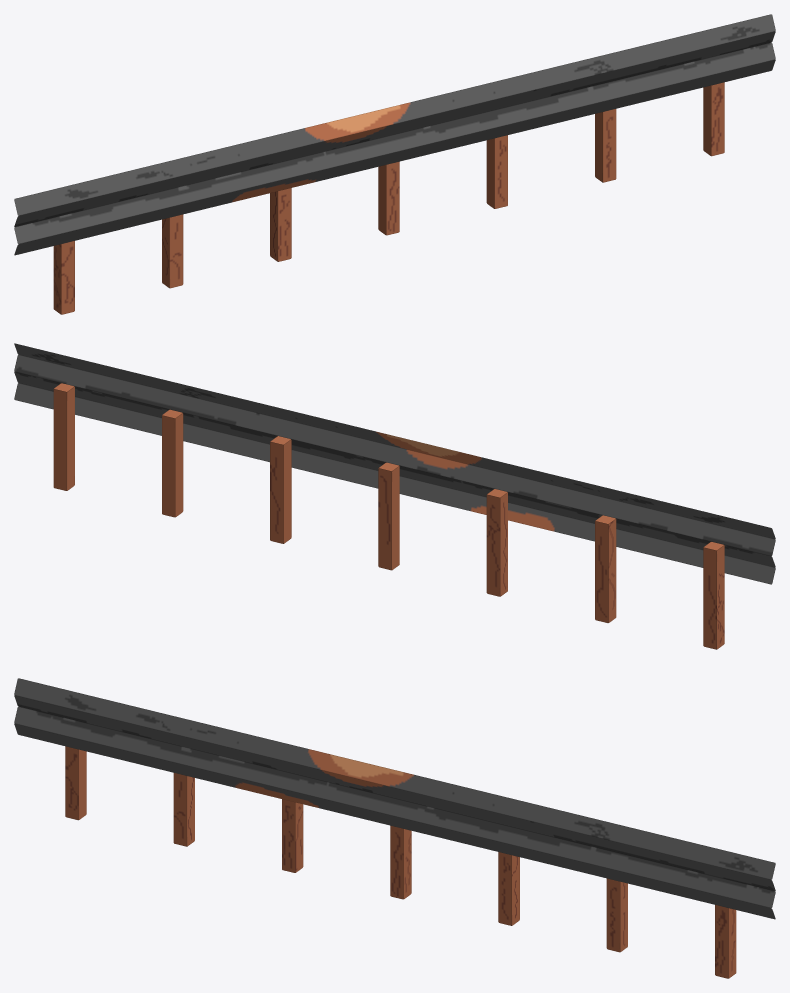
3 renders of one model, top to bottom at view 1: azimuth 30°, elevation 25°; view 2: azimuth 150°, elevation 25°; view 3: azimuth 330°, elevation 25°, orthographic.
Visible parts, largest first — view 1: plane, mesh_5, mesh_2, mesh_4, mesh_3, mesh_6, mesh, mesh_1; view 2: plane, mesh_4, mesh_2, mesh_6, mesh, mesh_1, mesh_5, mesh_3; view 3: plane, mesh_2, mesh_5, mesh, mesh_1, mesh_6, mesh_4, mesh_3.
Part boxes in pixels (x1=…): plane: x1=14, y1=14, x2=775, y2=255; mesh_5: x1=162, y1=214, x2=183, y2=288; mesh_2: x1=595, y1=109, x2=616, y2=182; mesh_4: x1=703, y1=82, x2=724, y2=156; mesh_3: x1=270, y1=188, x2=291, y2=261; mesh_6: x1=378, y1=161, x2=399, y2=235; mesh: x1=53, y1=241, x2=74, y2=314; mesh_1: x1=486, y1=135, x2=507, y2=208; plane: x1=14, y1=343, x2=775, y2=584; mesh_4: x1=53, y1=383, x2=74, y2=490; mesh_2: x1=162, y1=409, x2=183, y2=517; mesh_6: x1=378, y1=462, x2=399, y2=570; mesh: x1=703, y1=542, x2=724, y2=649; mesh_1: x1=270, y1=436, x2=291, y2=543; mesh_5: x1=595, y1=515, x2=616, y2=622; mesh_3: x1=486, y1=489, x2=507, y2=596; plane: x1=14, y1=678, x2=775, y2=919; mesh_2: x1=606, y1=878, x2=627, y2=952; mesh_5: x1=173, y1=773, x2=194, y2=846; mesh: x1=65, y1=746, x2=86, y2=820; mesh_1: x1=498, y1=852, x2=519, y2=925; mesh_6: x1=390, y1=825, x2=411, y2=899; mesh_4: x1=715, y1=905, x2=736, y2=978; mesh_3: x1=282, y1=799, x2=303, y2=872.
Bounding box in the file's own units: 700 × 112 × 18.75.
Materials: 1 (1 with a texture image).
